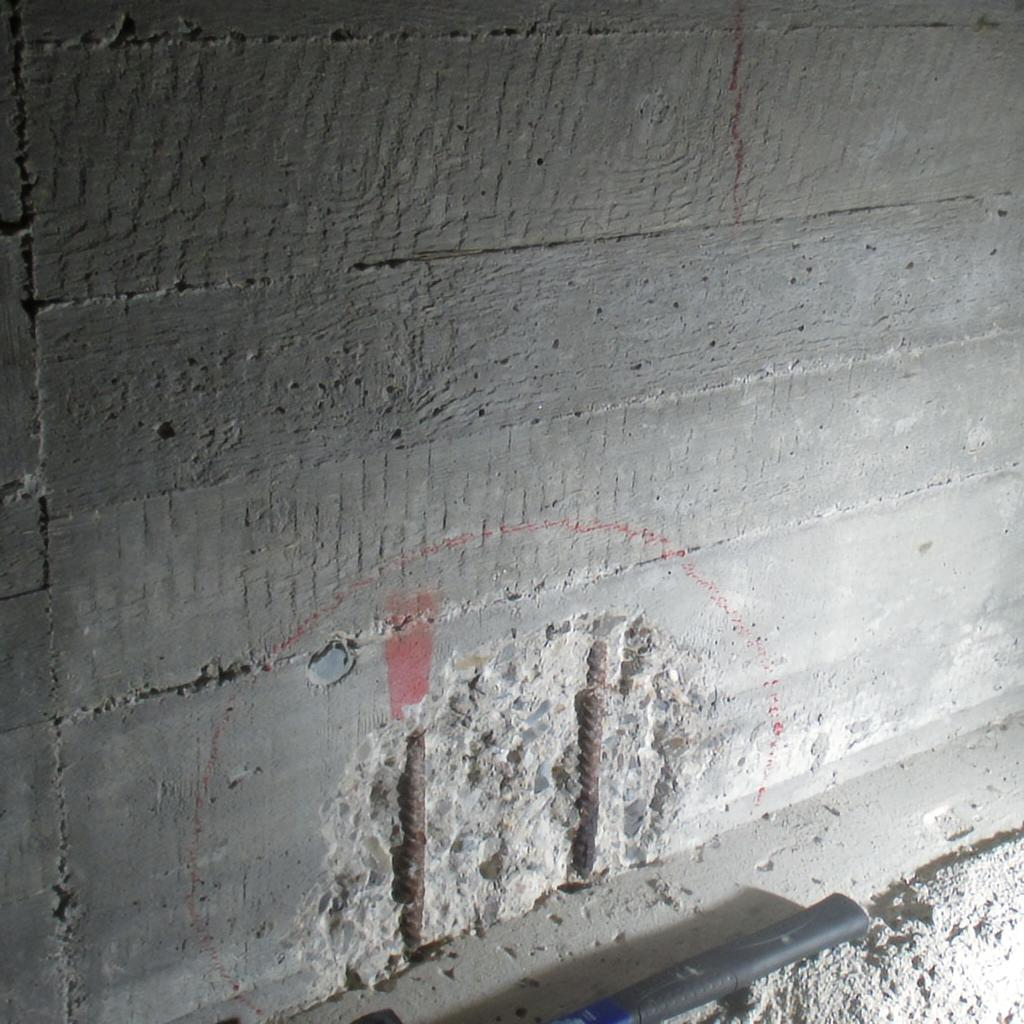exposed_rebar: (572, 618, 619, 879), (392, 732, 426, 953)
spalling: (320, 616, 706, 988)
